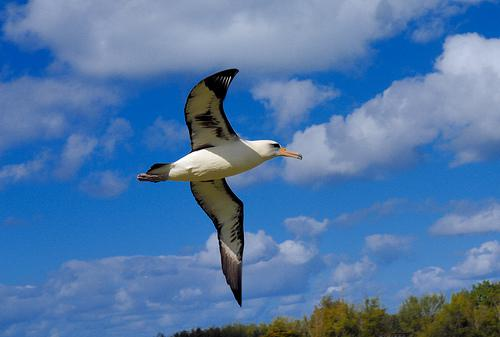002.Laysan_Albatross: (138, 68, 302, 308)
